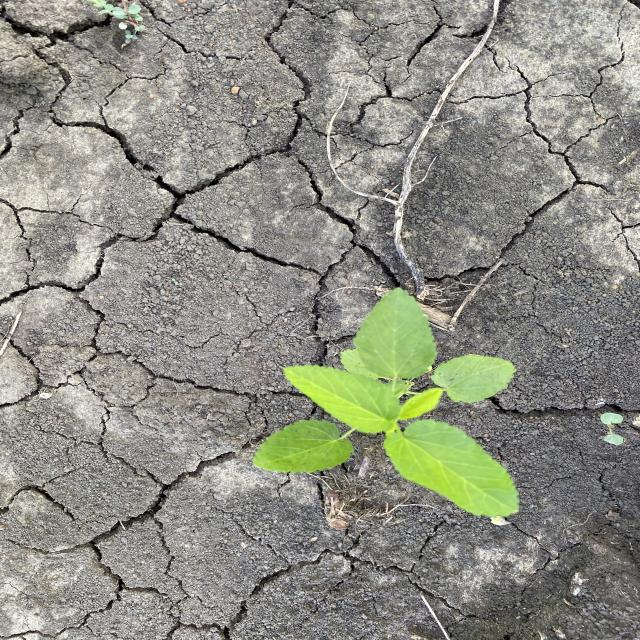PricklySida: (252, 286, 523, 521)
SpottedSpurge: (86, 0, 148, 47)
